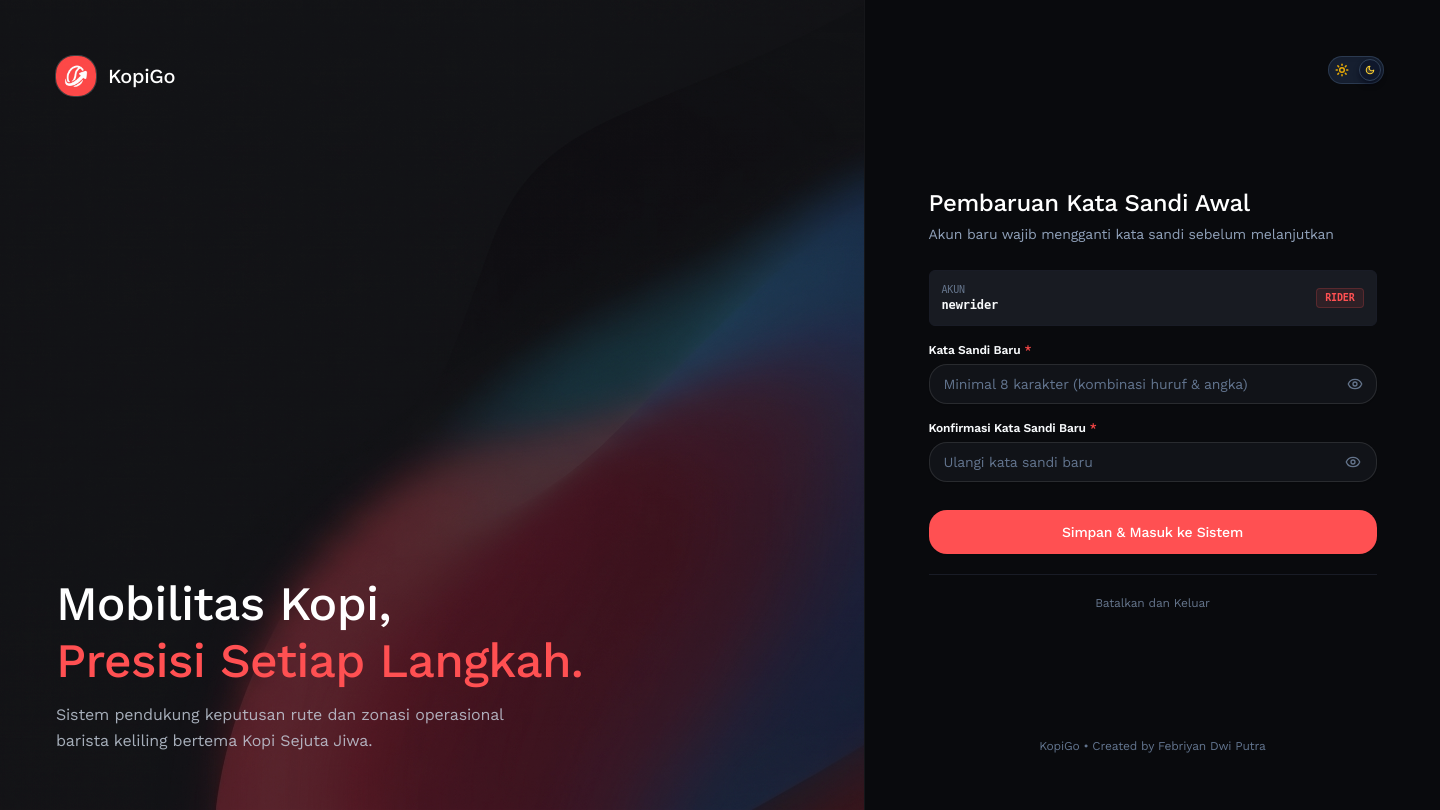
Test: 🚀 MOVA Frontend Onboarding Lifecycle Suite › 2️⃣ Layar A2 — FirstLoginPage (Mandatory First Login Guard) › shows validation error when passwords do not match
Type "Password123" into the password field labelled "Kata Sandi Baru *".
click(1152, 384); type("Password123")  # box [928,364,1376,404]
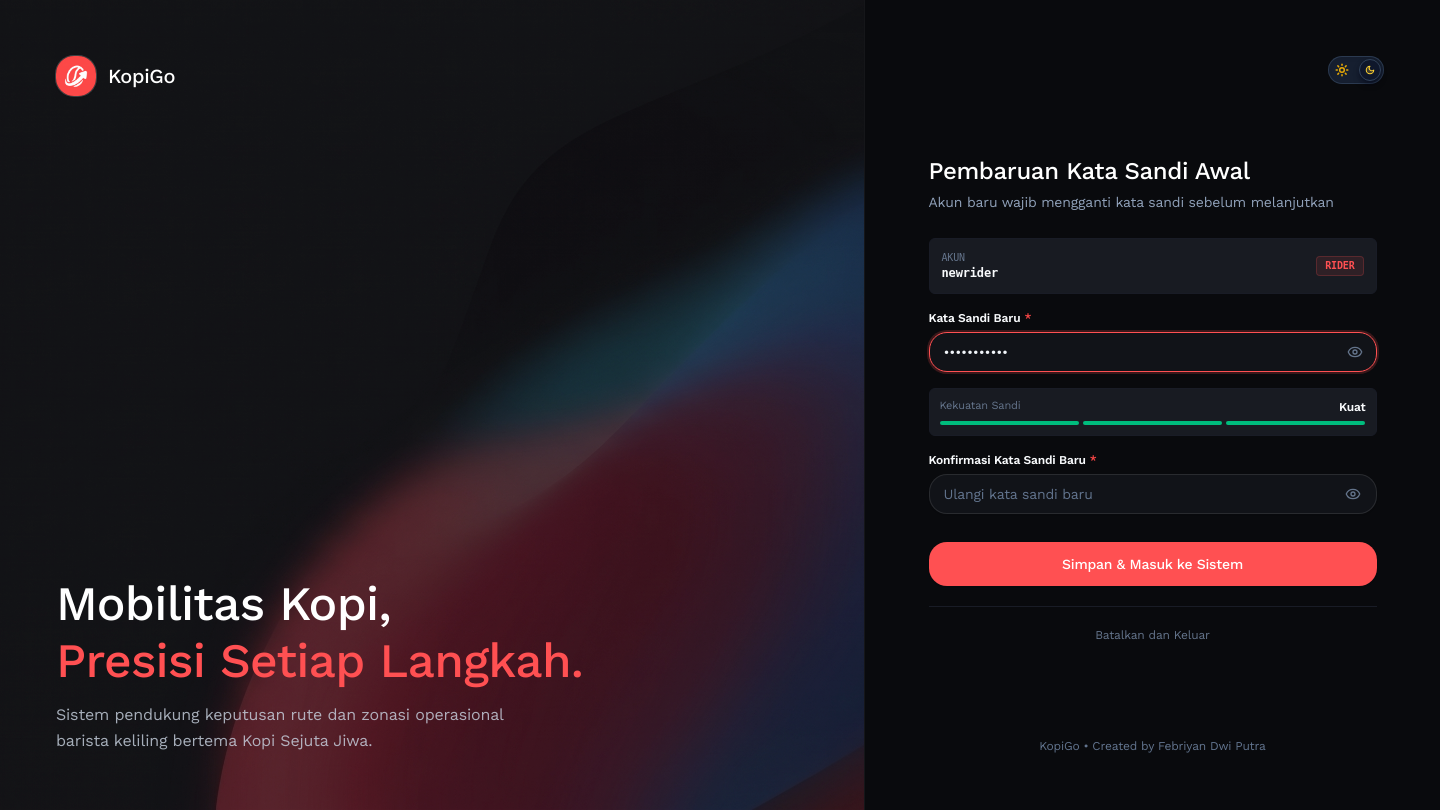
Type "DifferentPass123" into the password field labelled "Konfirmasi Kata Sandi Baru *".
click(1152, 494); type("DifferentPass123")  # box [928,474,1376,514]
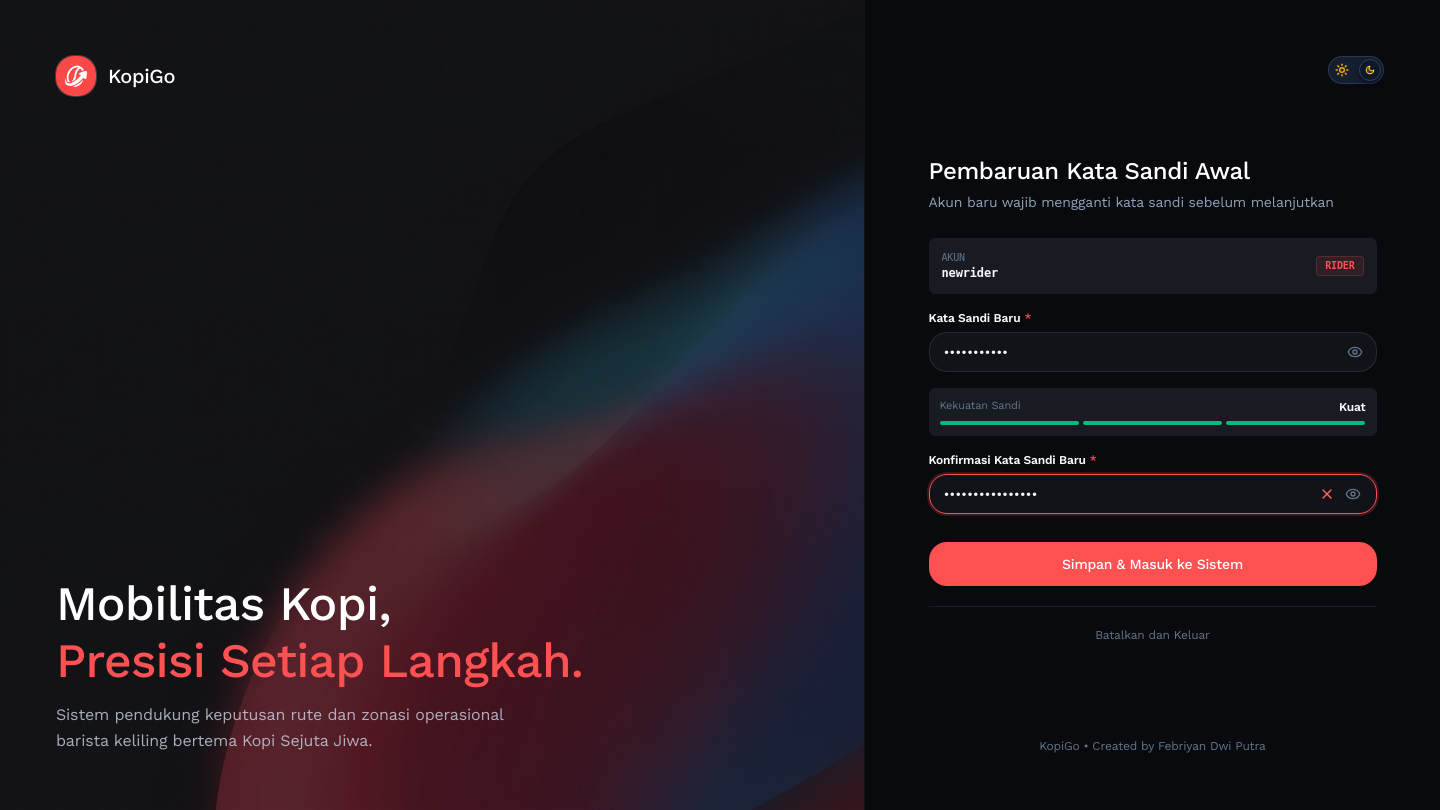
Click the button "Simpan & Masuk ke Sistem".
click(1152, 564)  # box [928,542,1376,586]
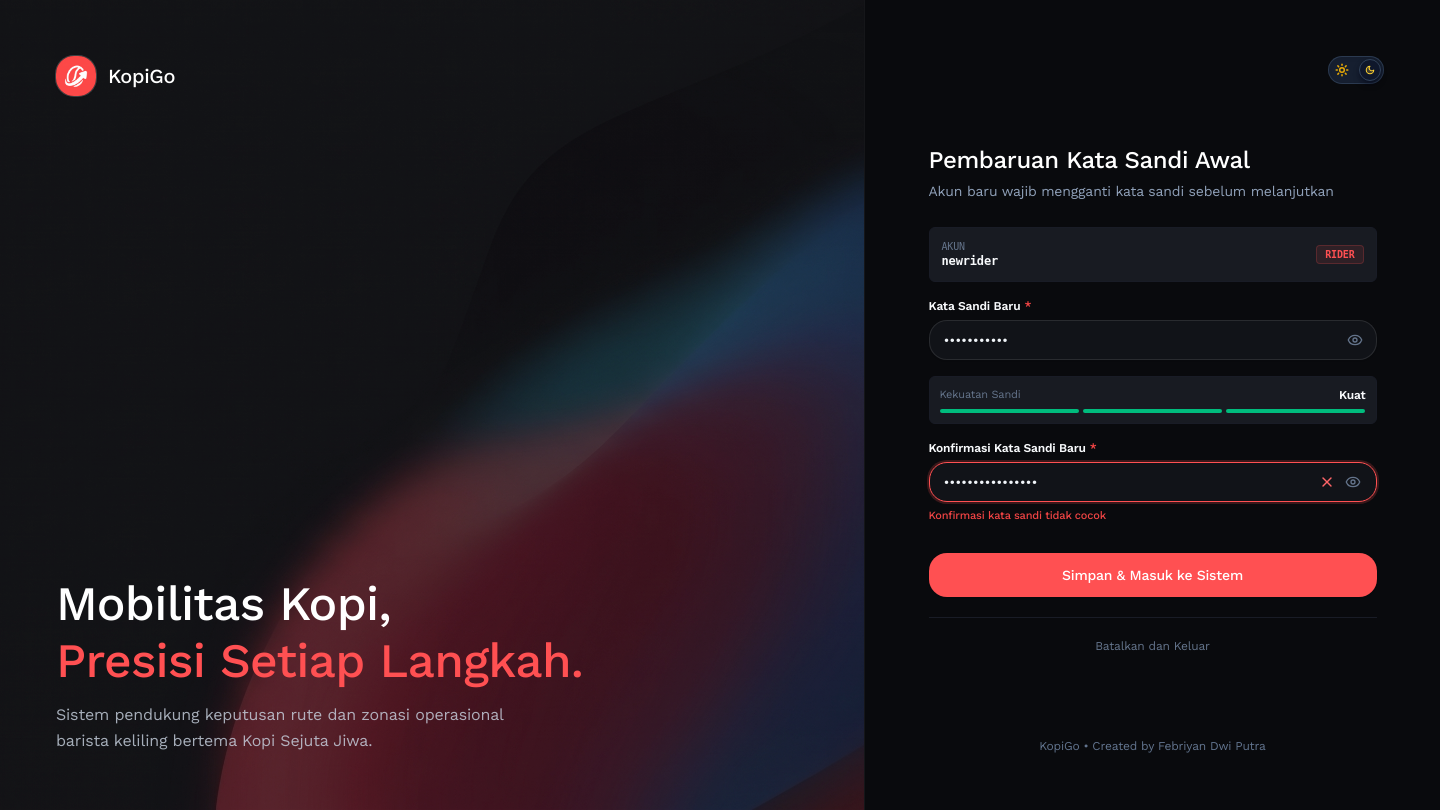
Expected: the text "Konfirmasi kata sandi tidak cocok" is shown, [928,509,1106,522]
